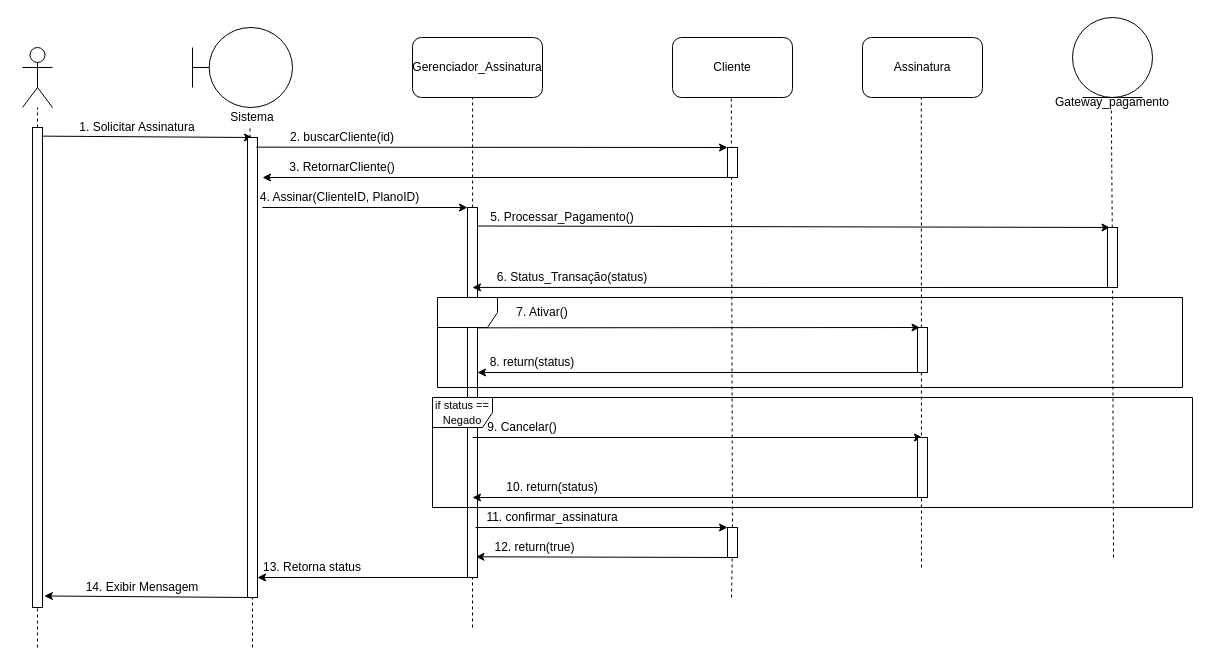
Some shapes in this 1210 by 666 pixel diagram are drawn without their labels. The box of each missing label's shape, as (x1, y1, x2, y2) in pixels:
if status== aprovado: (436, 296, 1182, 388)
Usuário: (22, 46, 52, 108)
